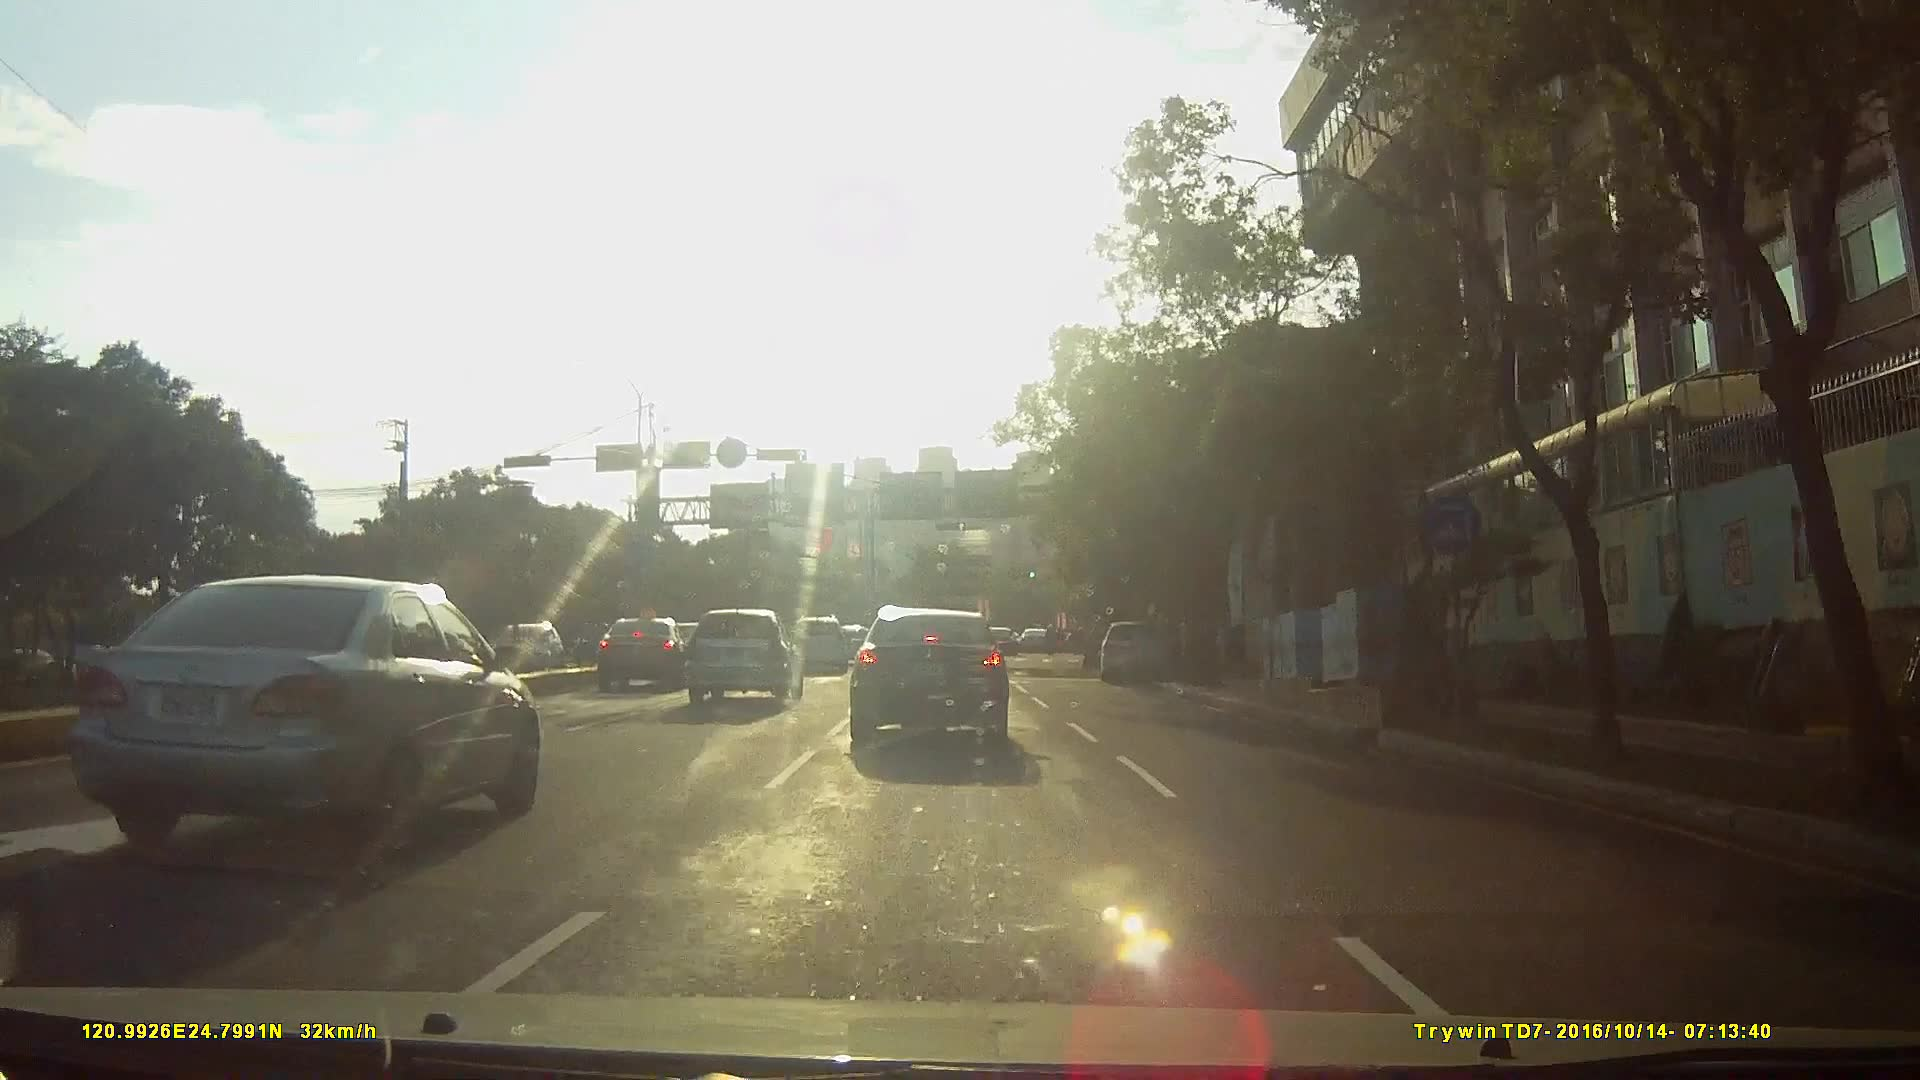vehicle: (62, 556, 550, 870), (841, 604, 1026, 767), (678, 603, 804, 705), (578, 611, 684, 691), (477, 612, 564, 675), (1102, 616, 1176, 683), (783, 613, 848, 673), (1018, 622, 1060, 651)
